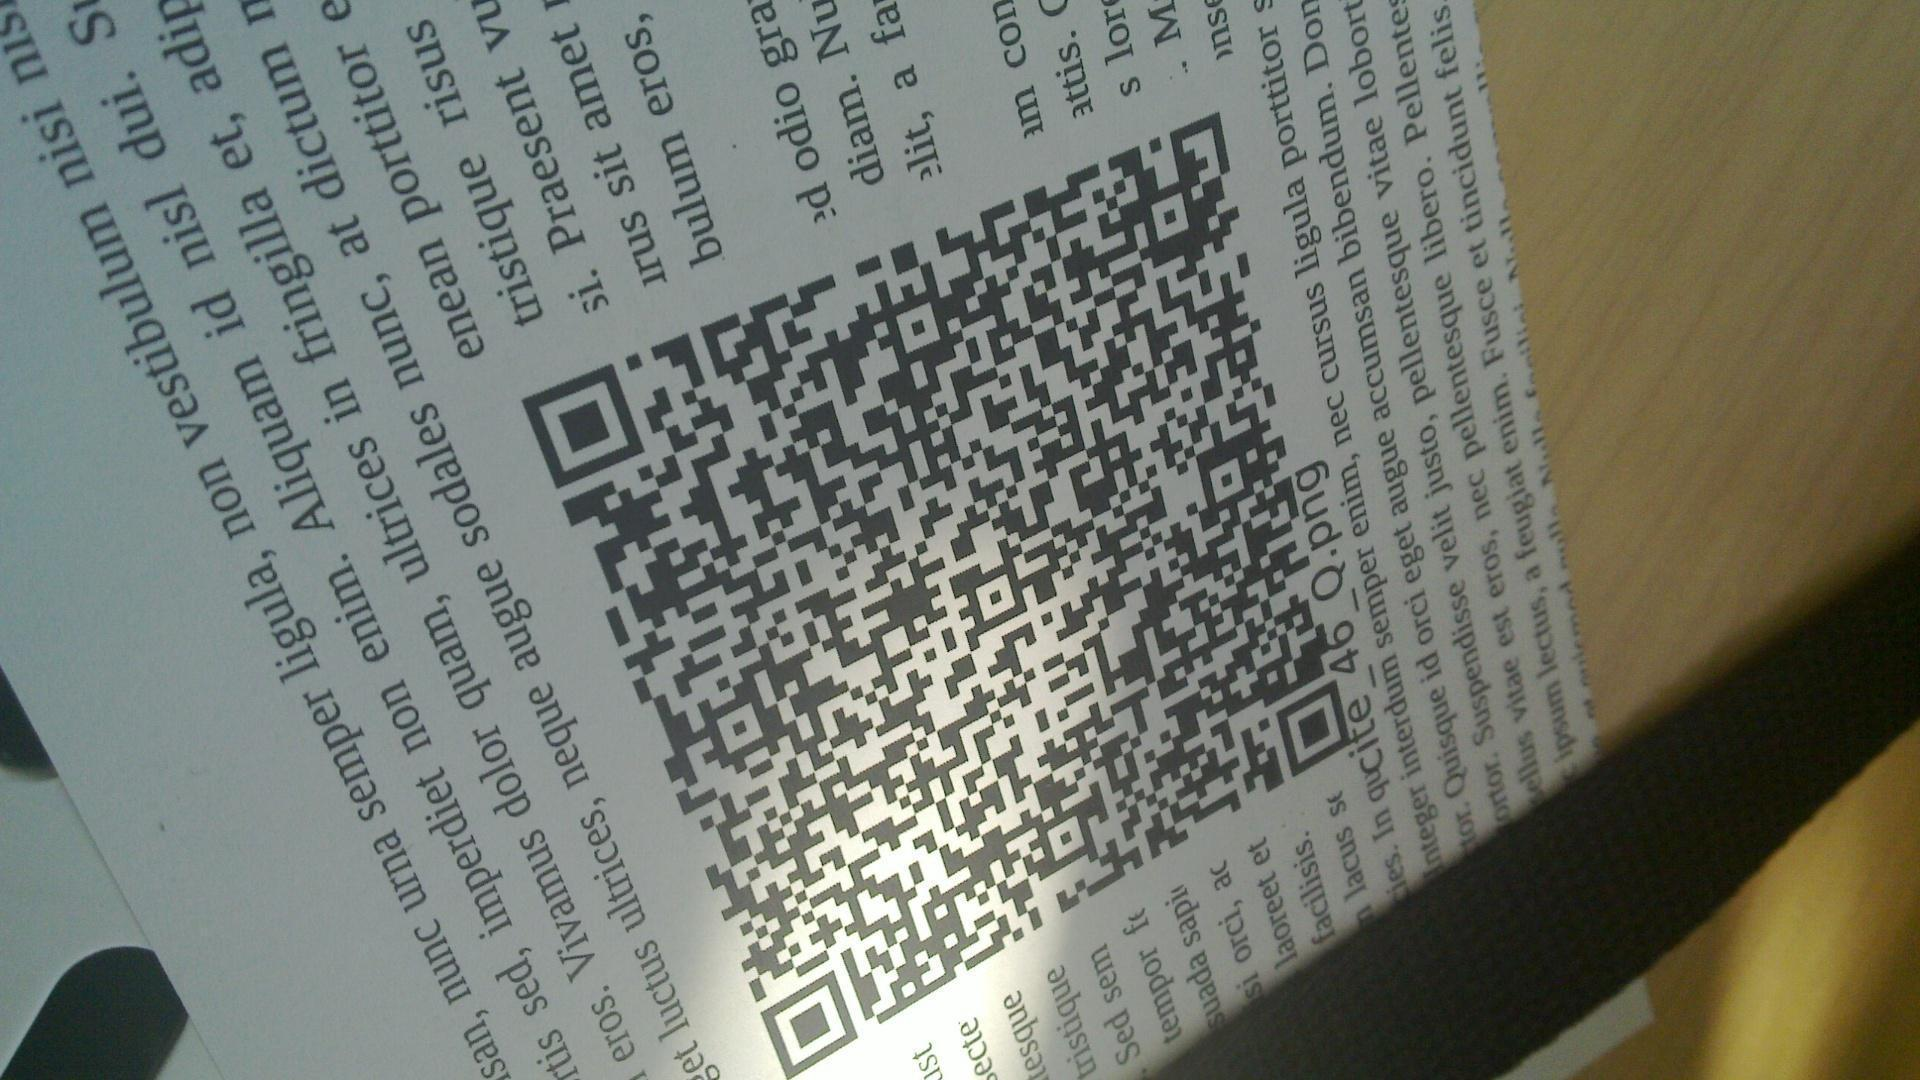qr_code: (520, 111, 1353, 1080)
